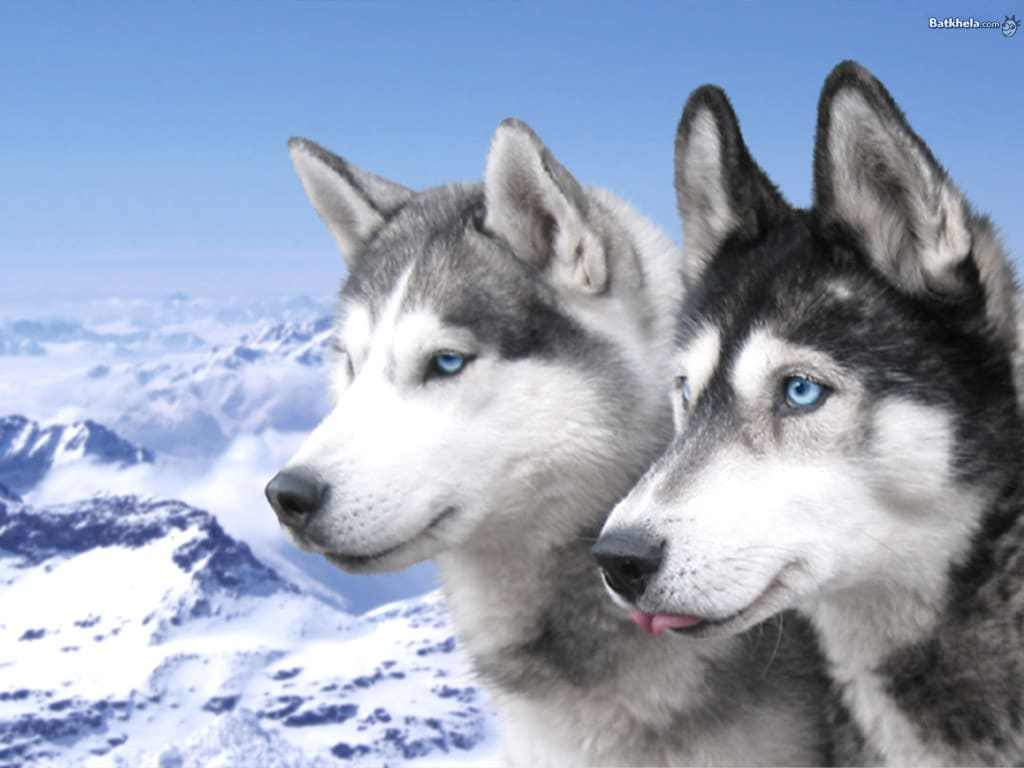husky: (571, 49, 1011, 682), (240, 97, 649, 634)
